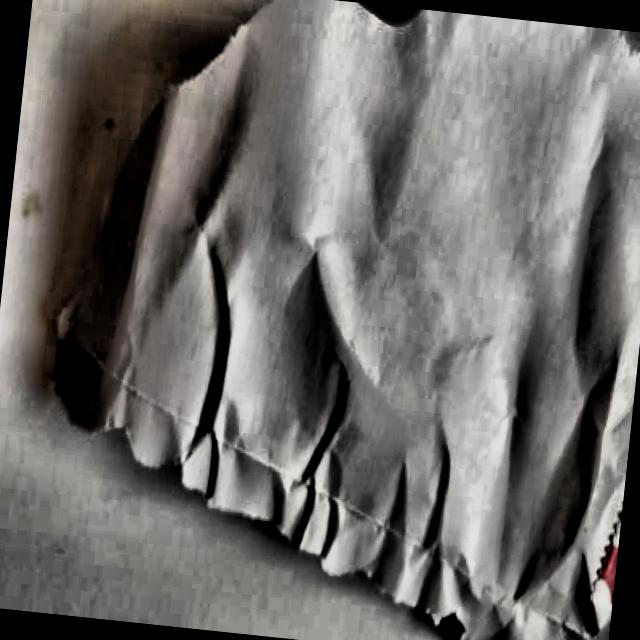paper: (38, 0, 640, 610)
